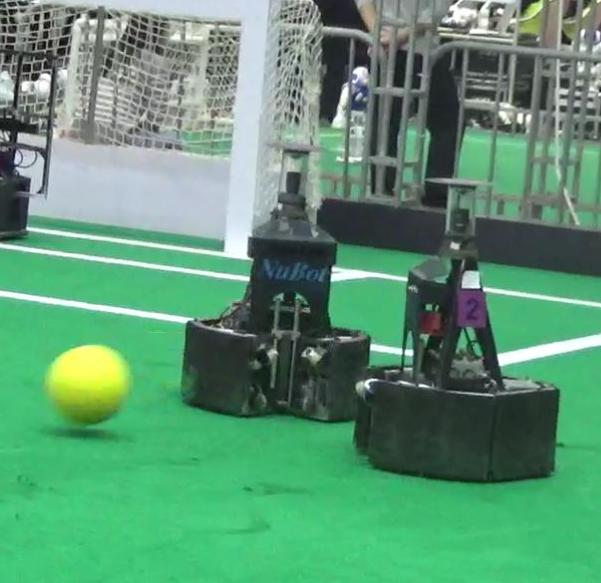robot: (344, 171, 567, 492), (164, 125, 381, 424)
